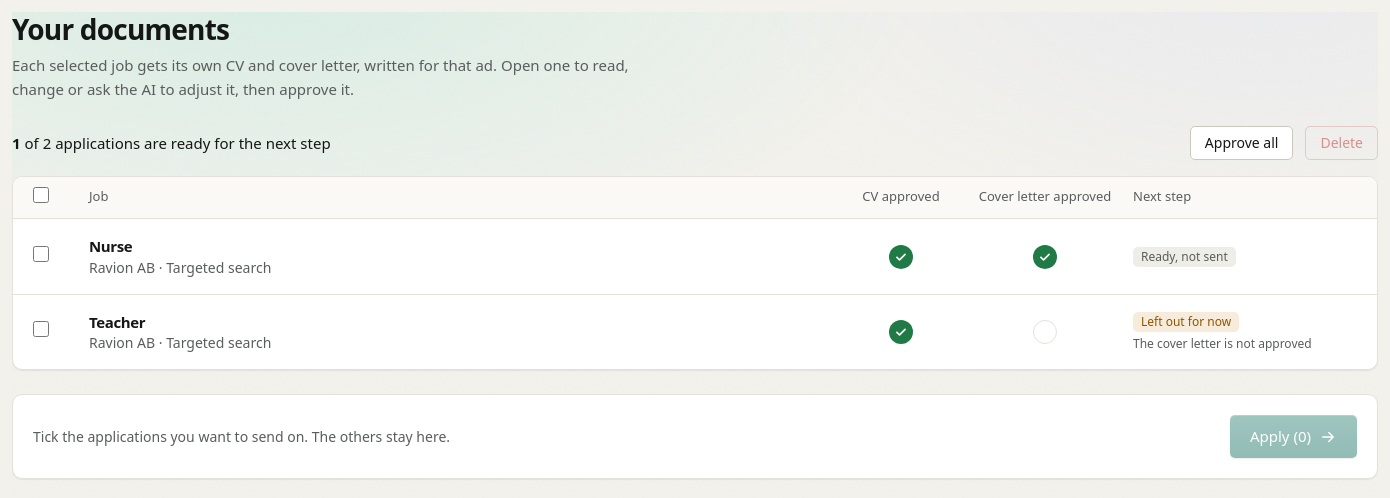
it: documents overview for the selected jobs › shows a green tick per approved document and says which applications go on and why the others do not
Expected: the picture named "CV: approved" in the row of "Nurse" is shown, [889, 244, 913, 268]
Expected: the picture named "Cover letter: approved" is shown, [1033, 244, 1057, 268]
Click the checkbox named "Select Nurse" at (41, 254), box [33, 246, 49, 262]
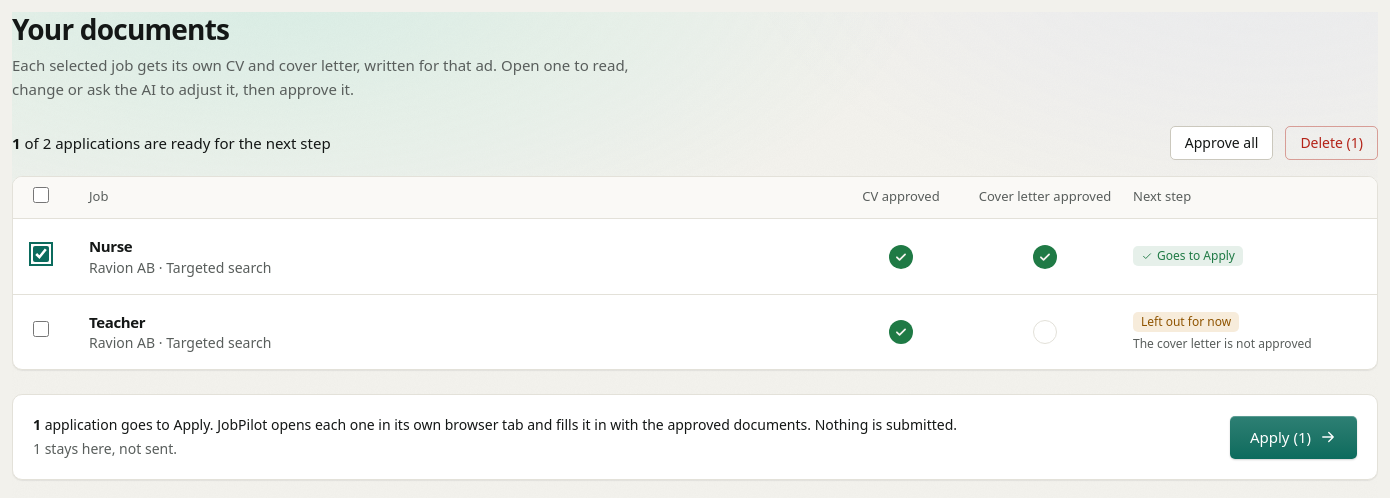
Expected: the picture named "CV: approved" in the row of "Teacher" is shown, [889, 320, 913, 344]
Now the text "Goes to Apply" is shown, box [1133, 246, 1243, 266]
Now the button "Apply (1)" is enabled, box [1230, 416, 1357, 458]
